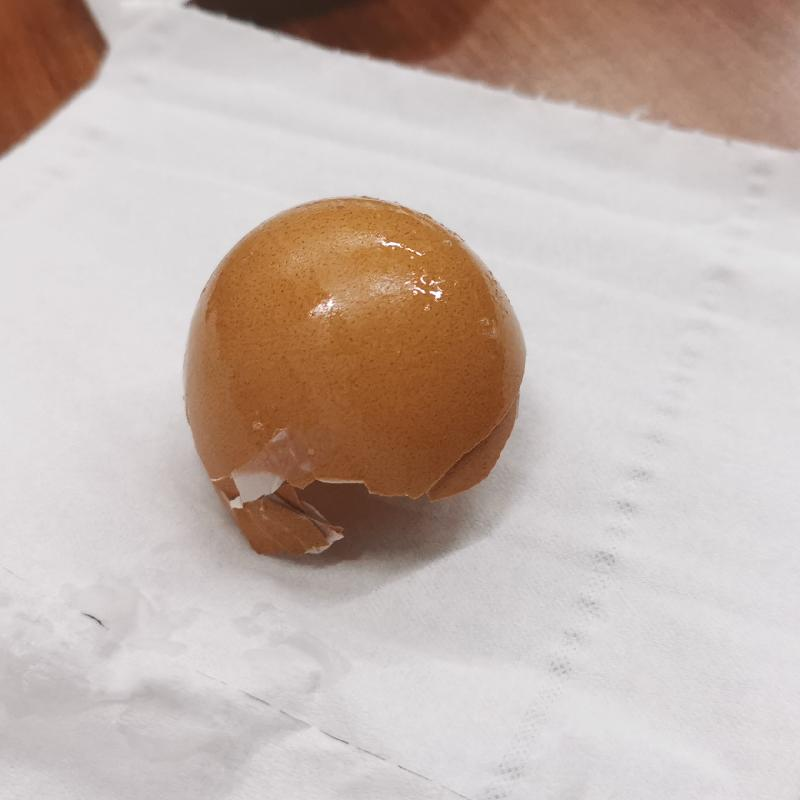eggshell: (180, 196, 527, 563)
